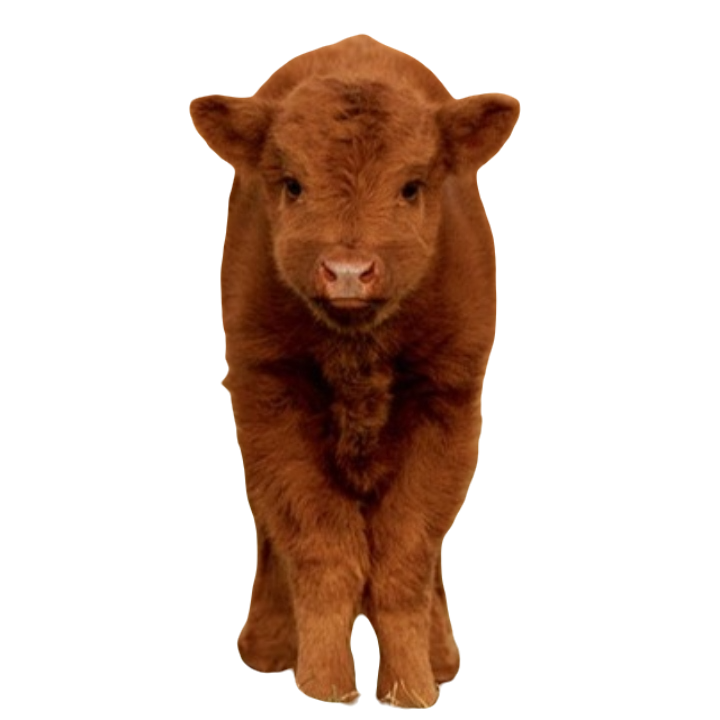Cow: (187, 28, 520, 704)
